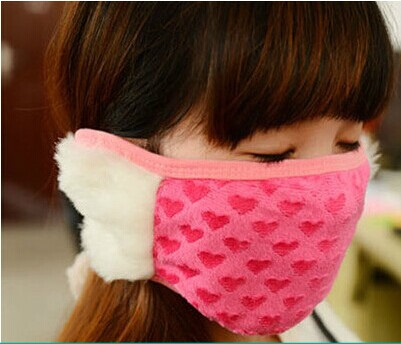face_mask: (193, 34, 385, 309)
